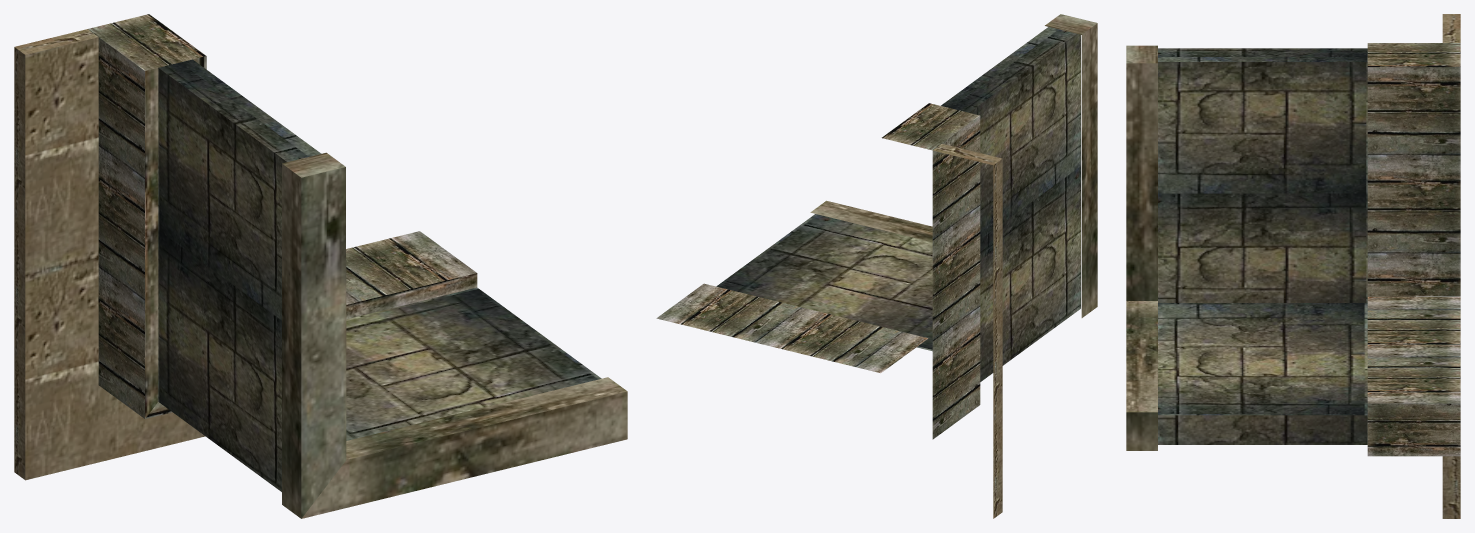
The model's file is HouseWall04.glb.
3 renders of one model, left to right at view 1: azimuth 30°, elevation 25°; view 2: azimuth 150°, elevation 25°; view 3: azimuth 270°, elevation 25°, orthographic. The views are drawn at different scales.
Parts seen in each view (by area): view 1: model_HouseWall04; view 2: model_HouseWall04; view 3: model_HouseWall04.
Boxes of the visible parts, x1,y1,x2,y2 form: model_HouseWall04: [14, 14, 627, 518]; model_HouseWall04: [656, 14, 1097, 518]; model_HouseWall04: [1126, 14, 1460, 518].
Size of the model in its own units: 3.01 by 3.01 by 2.64.
Materials: 3 (3 with a texture image).
